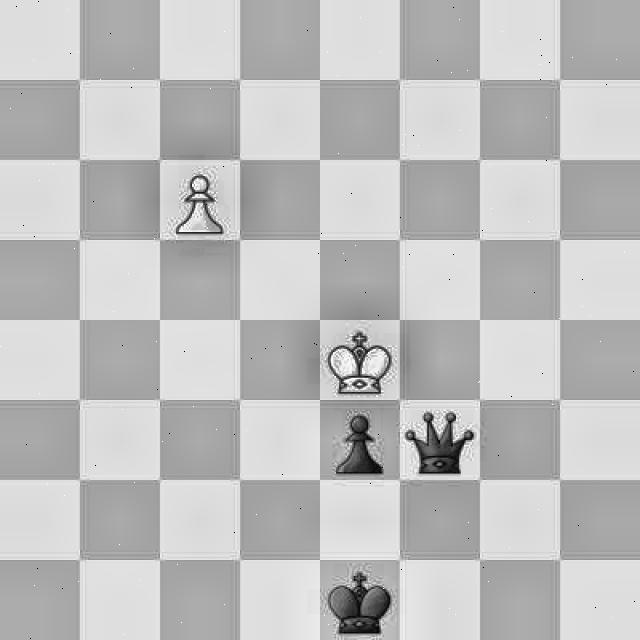black king: (323, 561, 396, 640)
black pawn: (320, 405, 395, 479)
black queen: (400, 400, 478, 477)
white king: (322, 324, 391, 394)
white pawn: (160, 157, 238, 239)
